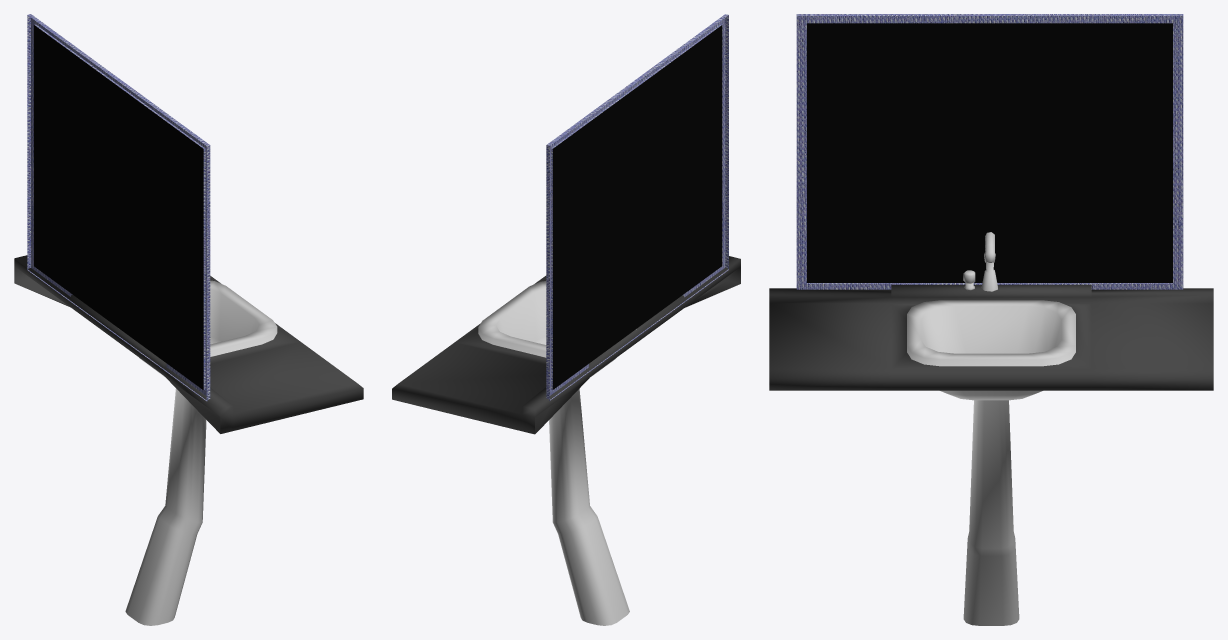
Rendered from sink & mirror.fbx.
3 renders of one model, left to right at view 1: azimuth 30°, elevation 25°; view 2: azimuth 150°, elevation 25°; view 3: azimuth 270°, elevation 25°, orthographic. The views are drawn at different scales.
Visible parts, largest first — view 1: Bathroom Mirror.001; view 2: Bathroom Mirror.001; view 3: Bathroom Mirror.001.
Boxes of the visible parts, x1=… form: Bathroom Mirror.001: x1=14, y1=14, x2=363, y2=625; Bathroom Mirror.001: x1=392, y1=14, x2=740, y2=625; Bathroom Mirror.001: x1=769, y1=14, x2=1213, y2=625.
Bounding box in the file's own units: 145 × 523 × 360.
